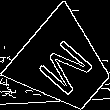M_SE: (30, 31, 98, 99)
